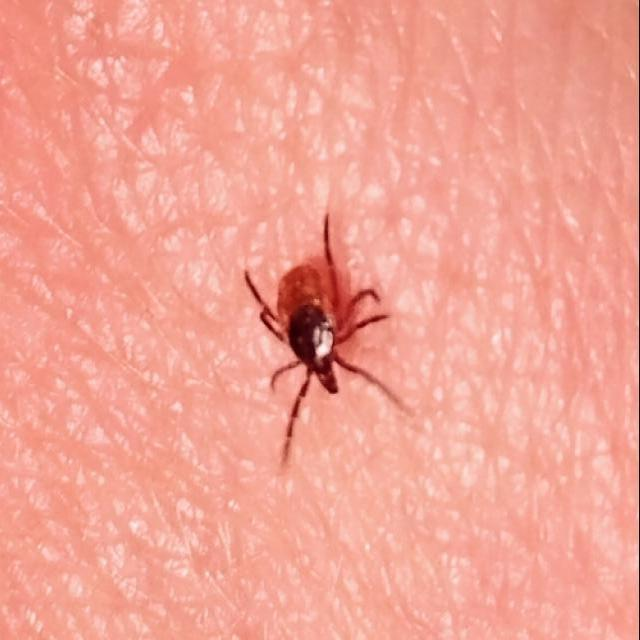Ixodes Ricinus-F: (250, 214, 390, 463)
